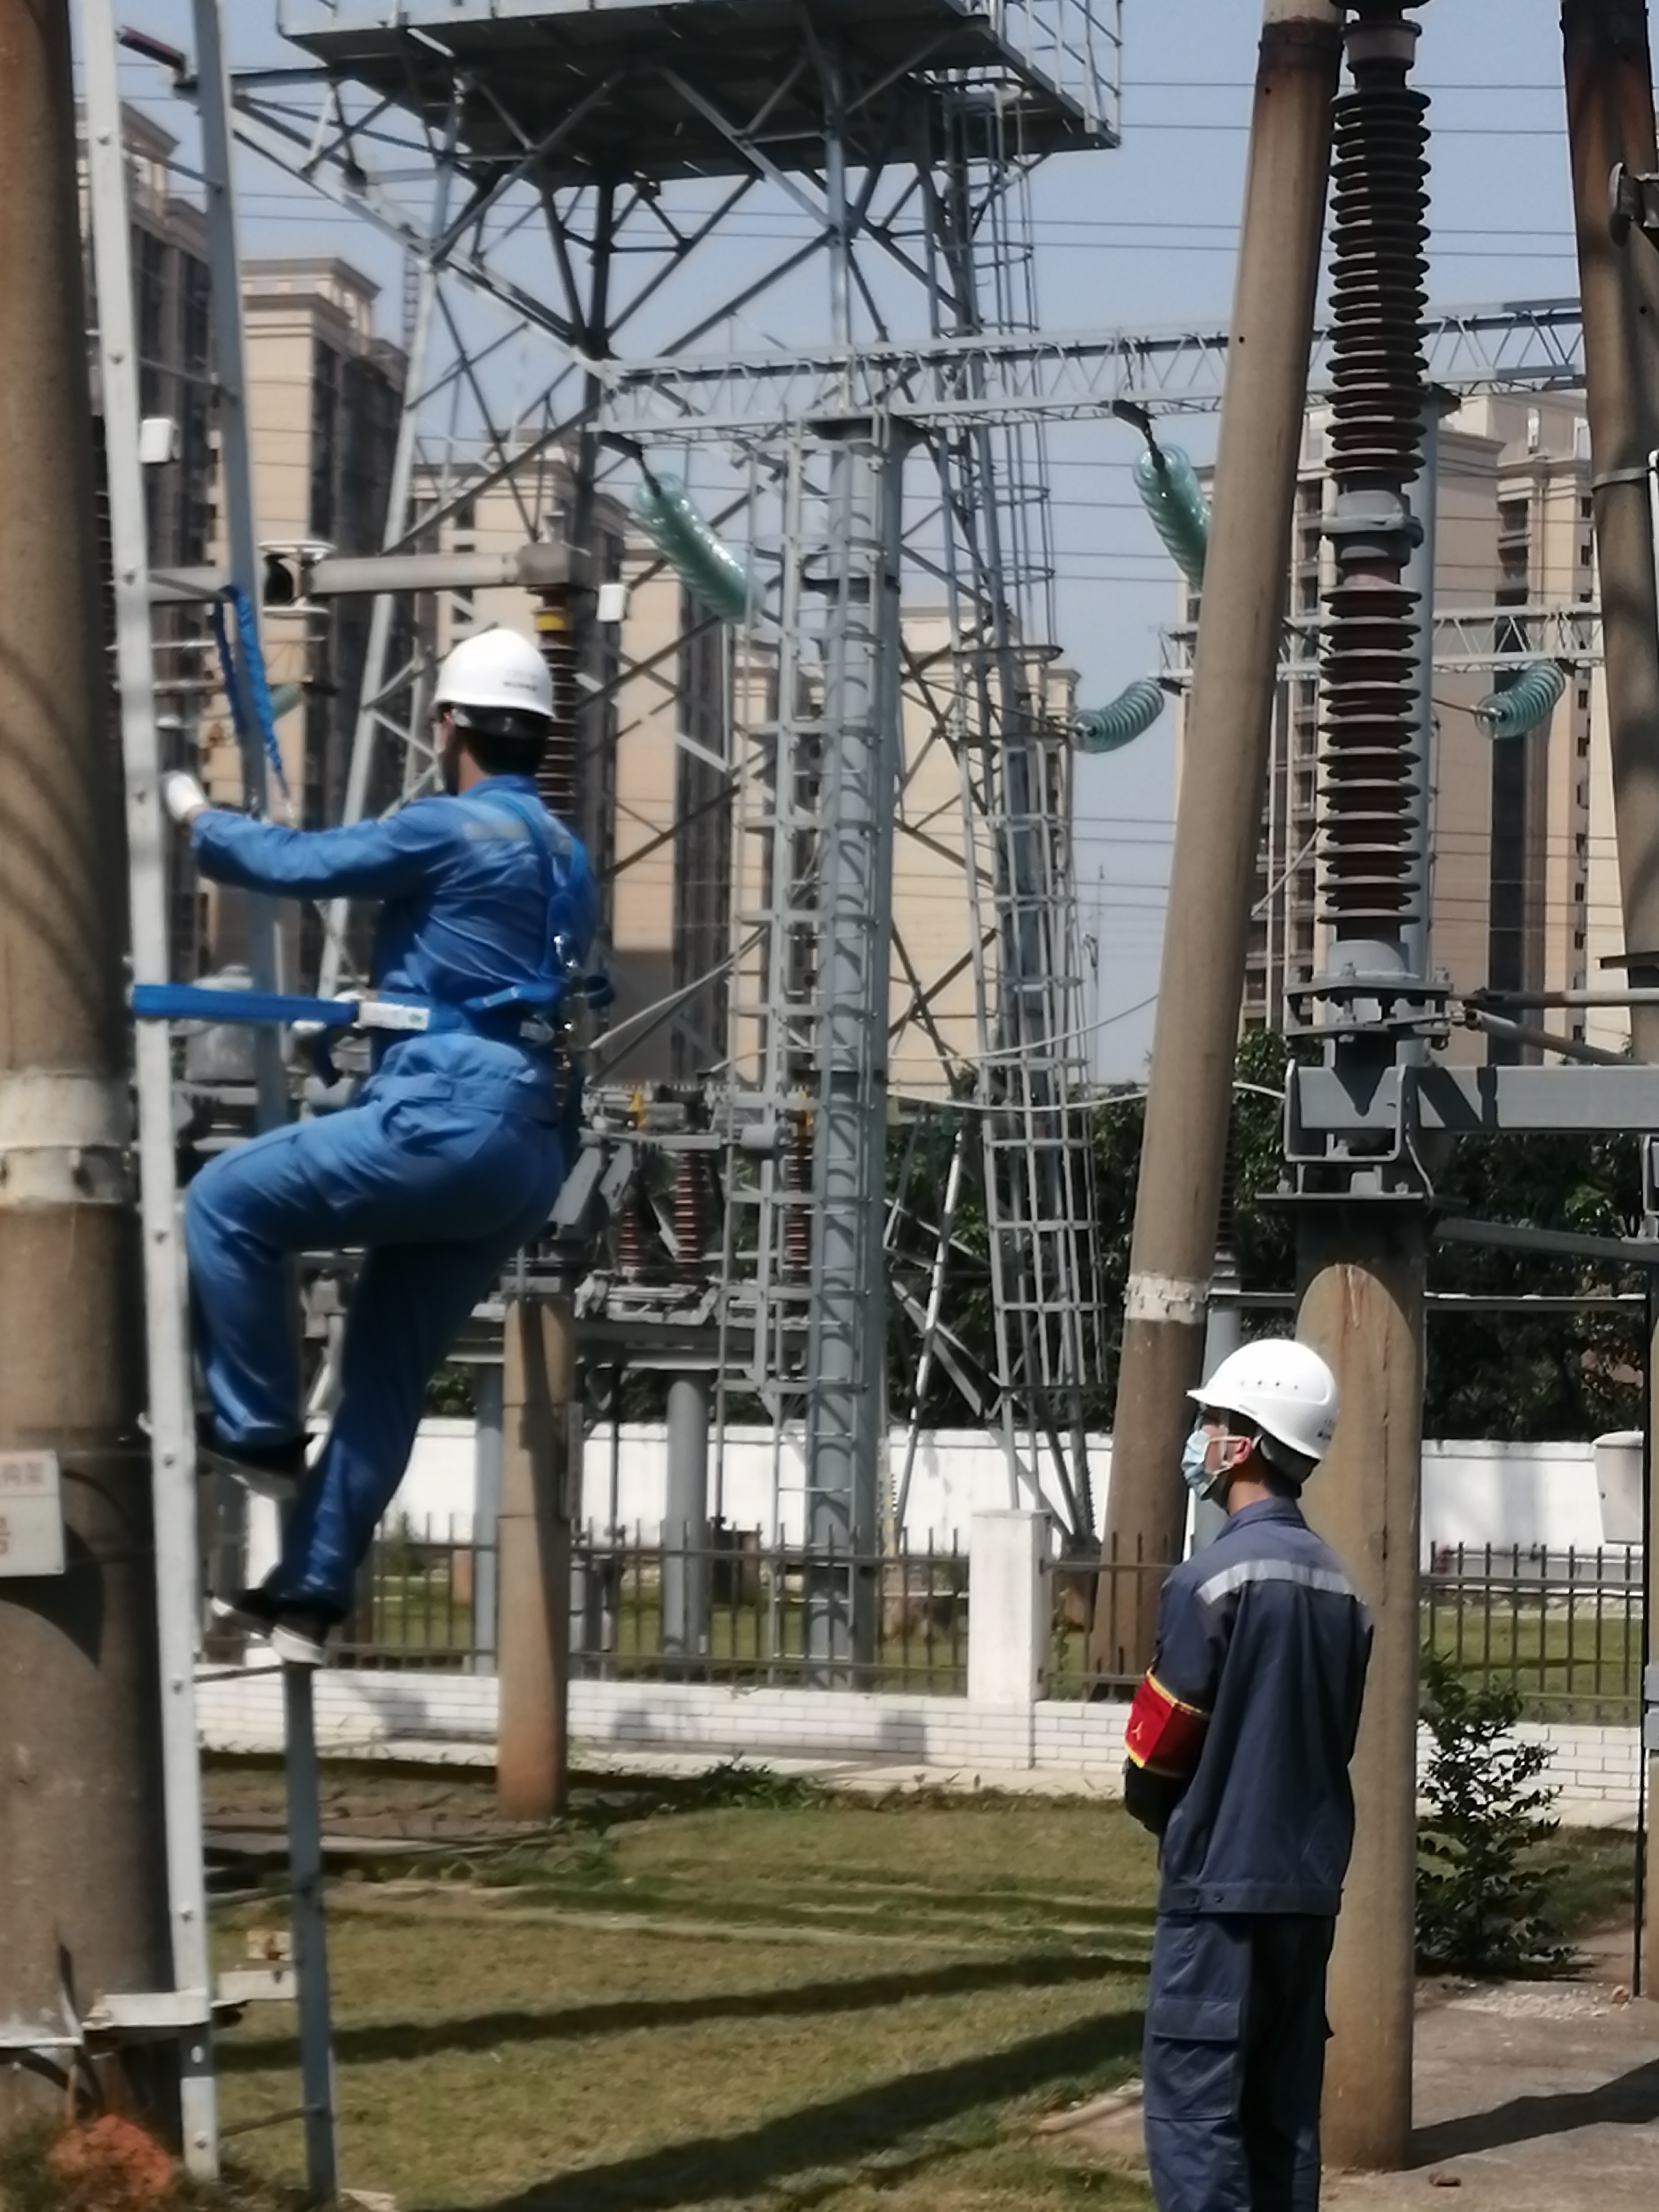downsuit: (171, 1083, 594, 1620), (1133, 1893, 1361, 2212)
upsuit: (186, 768, 659, 1129), (1121, 1498, 1387, 1918)
